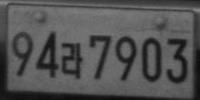0: (140, 36, 162, 82)
3: (166, 38, 188, 84)
4: (34, 31, 59, 78)
7: (89, 33, 112, 80)
9: (10, 31, 34, 77), (114, 35, 137, 81)
라: (59, 42, 83, 79)
